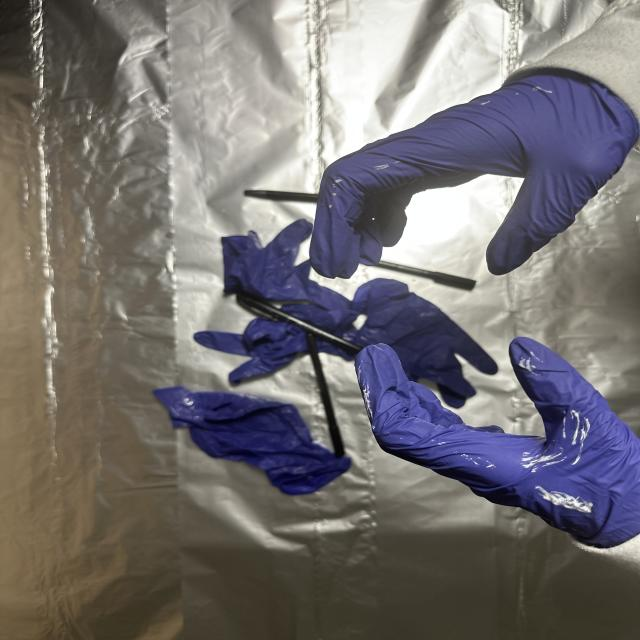gloves_contaminated: (311, 71, 639, 277), (355, 337, 640, 548)
